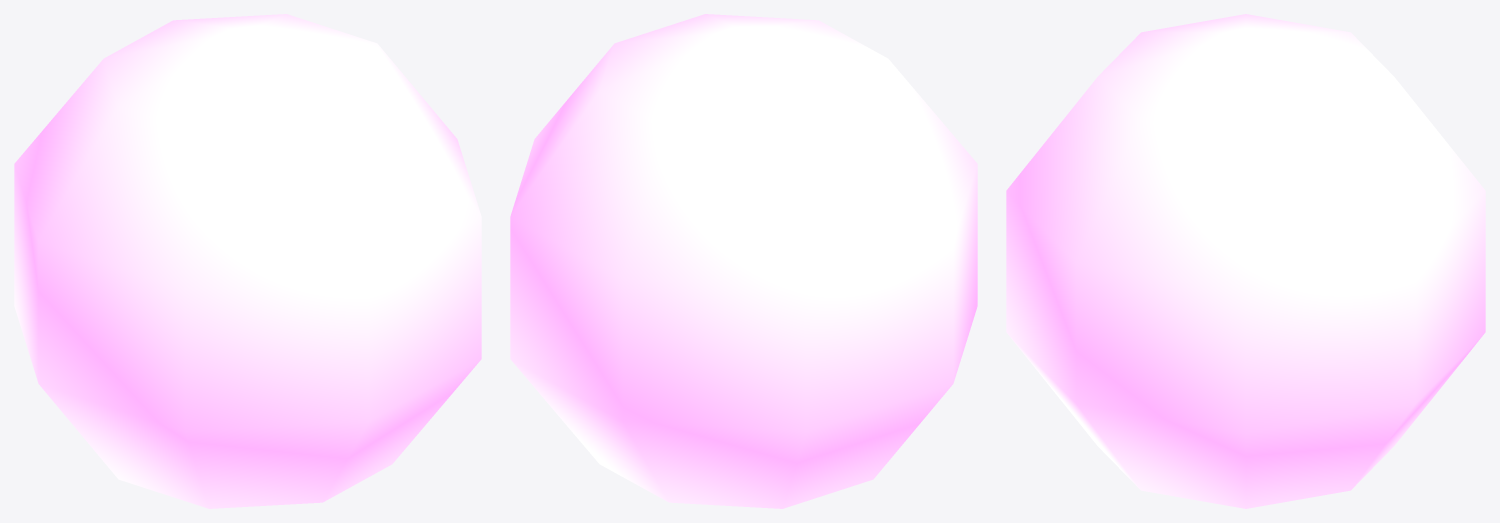
The model's file is SM_TD2_CableJoint_Lit.gltf.
3 views of the same model, side by side, from view 1: azimuth 30°, elevation 25°; view 2: azimuth 150°, elevation 25°; view 3: azimuth 270°, elevation 25° (orthographic).
Parts seen in each view (by area): view 1: SM_TD2_CableJoint_Lit; view 2: SM_TD2_CableJoint_Lit; view 3: SM_TD2_CableJoint_Lit.
Part boxes in pixels (box(x1,y1,x2,y2)): SM_TD2_CableJoint_Lit: box(14, 14, 481, 508); SM_TD2_CableJoint_Lit: box(510, 14, 977, 508); SM_TD2_CableJoint_Lit: box(1006, 14, 1485, 508).
Bounding box in the file's own units: 0.0571 × 0.06 × 0.0571.
